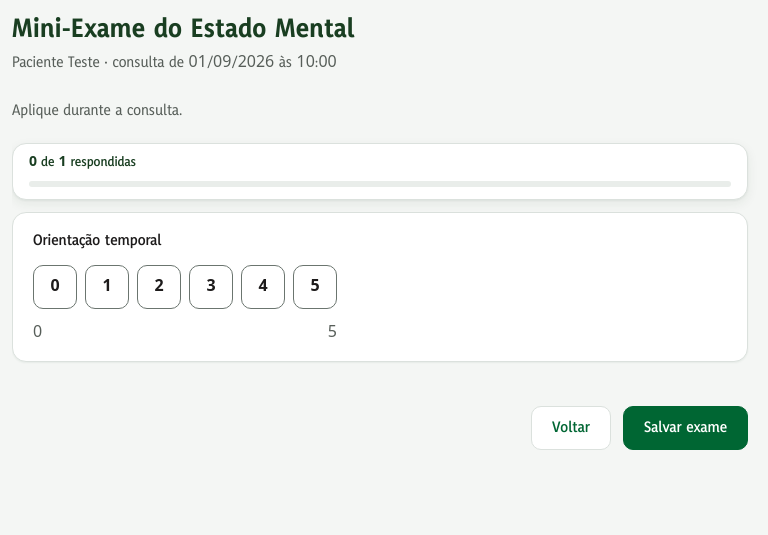
Test case: MiniExame › salvar com item em branco leva o foco pro primeiro item q falta
This screenshot has width=768, height=535.
Step 1. Click the button "Salvar exame" → click(685, 428), box [623,406,748,450]
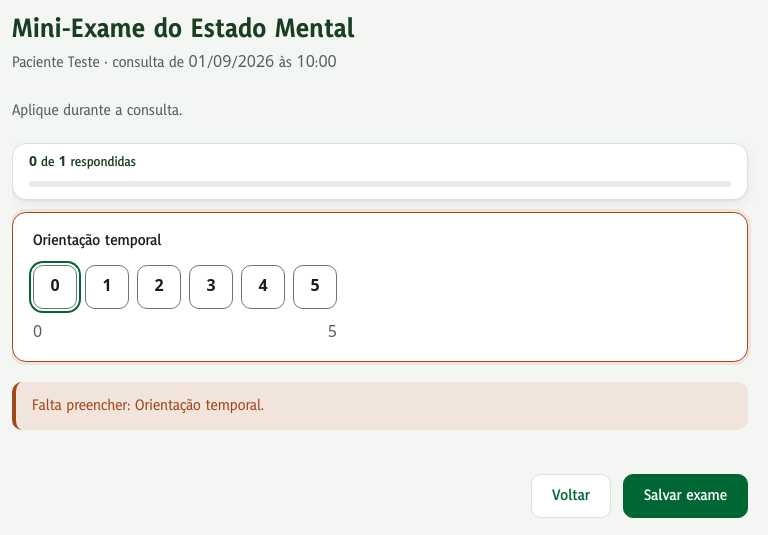
expect the message "Falta preencher: Orientação temporal." is shown: met, box [12,382,748,430]
